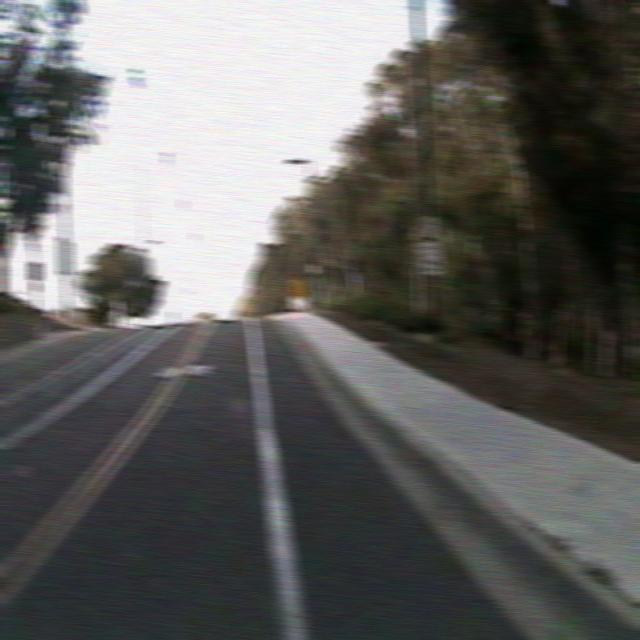speedLimit35: (417, 237, 443, 275)
